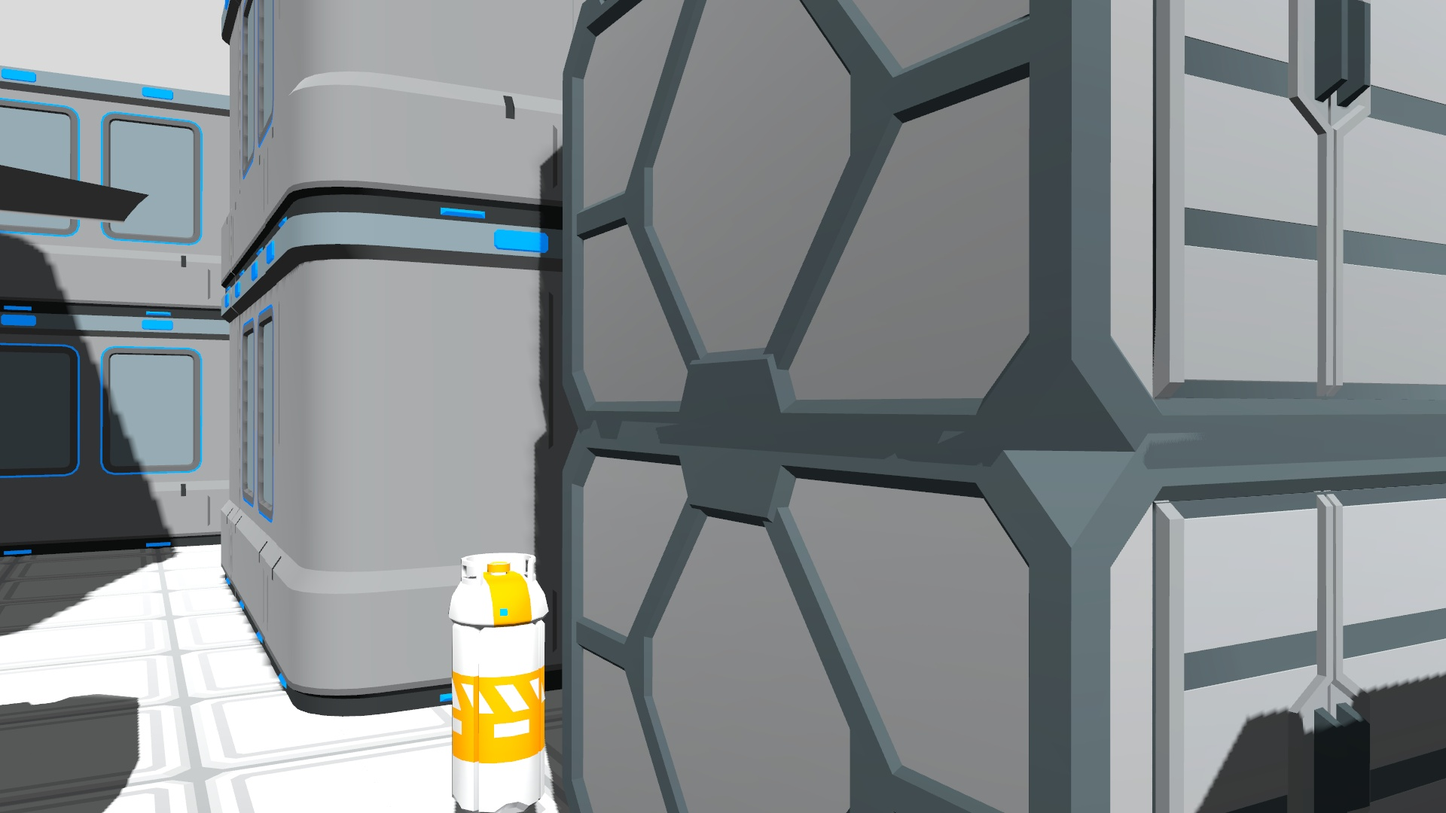yellow_barrel: (446, 548, 549, 813)
